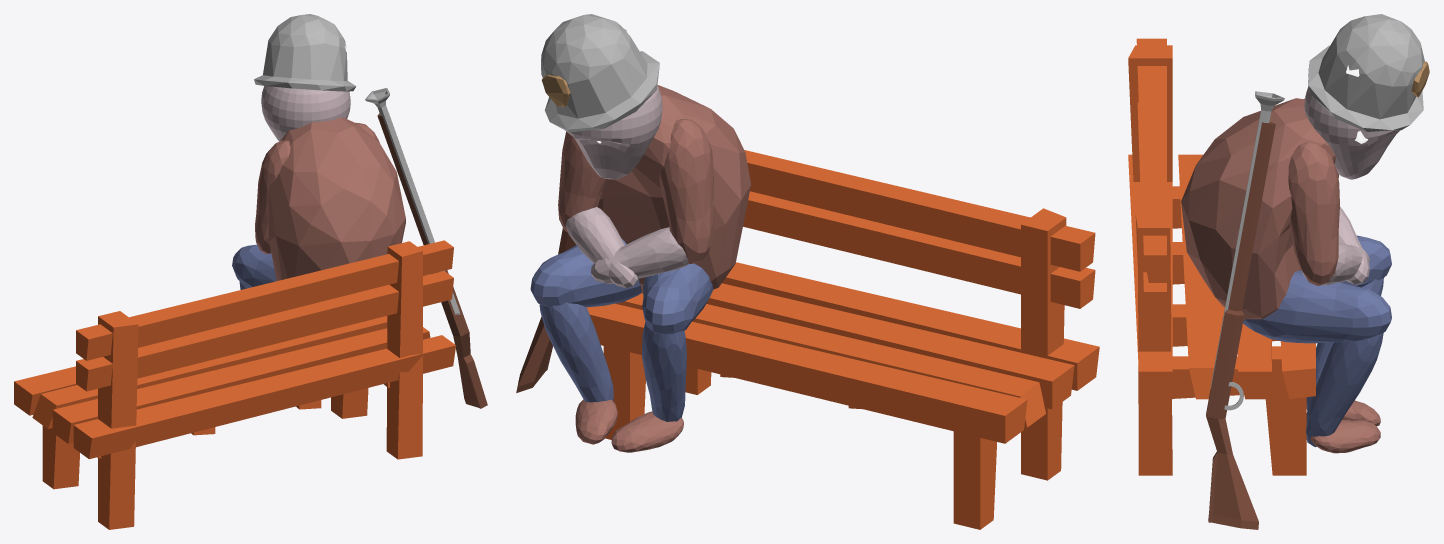
File: enemy.glb
3 views of the same model, side by side, from view 1: azimuth 30°, elevation 25°; view 2: azimuth 150°, elevation 25°; view 3: azimuth 270°, elevation 25° (orthographic). The views are drawn at different scales.
Visible parts, largest first — view 1: Cube, Icosphere, Sphere.003, Cylinder, Sphere.002, Sphere.004, Sphere; view 2: Cube, Icosphere, Sphere.003, Sphere.004, Sphere.001, Sphere, Sphere.005, Sphere.002, Sphere.006, Cylinder; view 3: Cube, Icosphere, Sphere.003, Cylinder, Sphere, Sphere.004, Sphere.001, Sphere.002, Sphere.006, Sphere.005, Cube.001.
Boxes of the visible parts, box(x1,y1,x2,y2) form: Cube: box(14, 240, 455, 529); Icosphere: box(267, 117, 405, 280); Sphere.003: box(254, 14, 356, 91); Cylinder: box(365, 88, 487, 408); Sphere.002: box(261, 86, 350, 141); Sphere.004: box(255, 122, 379, 254); Sphere: box(232, 244, 276, 288); Cube: box(586, 150, 1099, 529); Icosphere: box(598, 85, 750, 293); Sphere.003: box(541, 14, 659, 132); Sphere.004: box(558, 118, 713, 263); Sphere.001: box(539, 302, 686, 421); Sphere: box(530, 238, 713, 334); Sphere.005: box(565, 207, 688, 288); Sphere.002: box(565, 85, 662, 179); Sphere.006: box(575, 399, 683, 452); Cylinder: box(516, 28, 626, 392); Cube: box(1128, 38, 1315, 475); Icosphere: box(1181, 98, 1335, 319); Sphere.003: box(1308, 14, 1424, 131); Cylinder: box(1206, 91, 1284, 529); Sphere: box(1243, 235, 1391, 343); Sphere.004: box(1288, 98, 1339, 285); Sphere.001: box(1306, 277, 1383, 447); Sphere.002: box(1304, 87, 1399, 179); Sphere.006: box(1310, 400, 1380, 453); Sphere.005: box(1301, 207, 1369, 285); Cube.001: box(1411, 61, 1429, 97).
Bounding box in the file's own units: 3.25 × 2.66 × 1.63.
